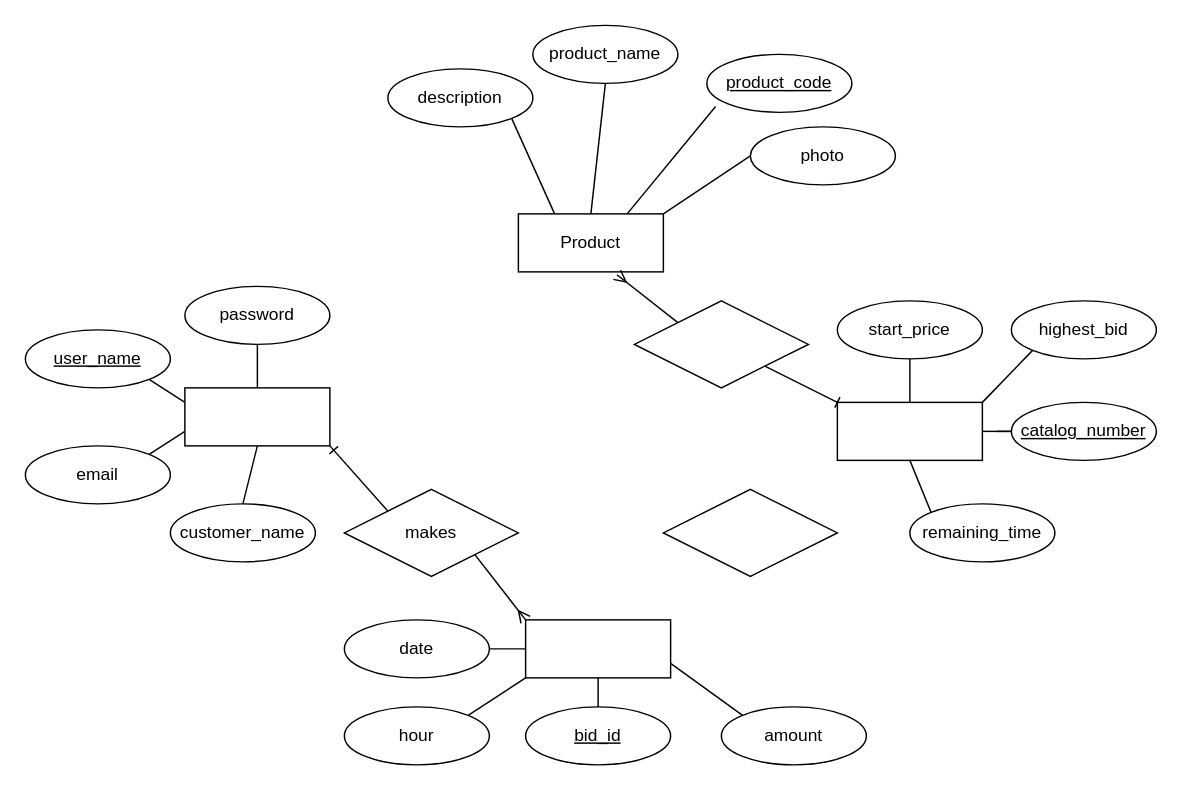
Image size: 1182x790. Some labels were removed from this diagram. Each missing label, with the box of its shape:
Bid: (524, 618, 671, 678)
Customer: (183, 386, 330, 446)
is part of: (633, 299, 808, 388)
Set: (836, 401, 982, 460)
